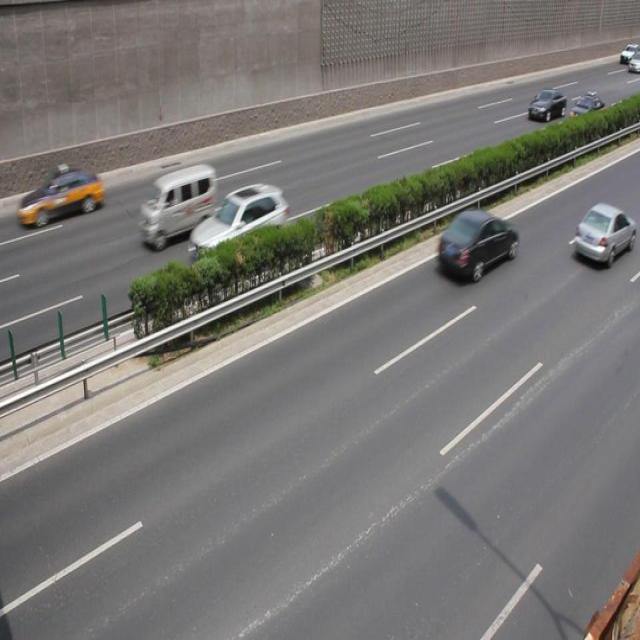car: (188, 181, 288, 280), (436, 209, 516, 282), (31, 163, 104, 227), (572, 201, 629, 267), (568, 92, 606, 125), (527, 88, 564, 121)
truck: (138, 162, 219, 249)
